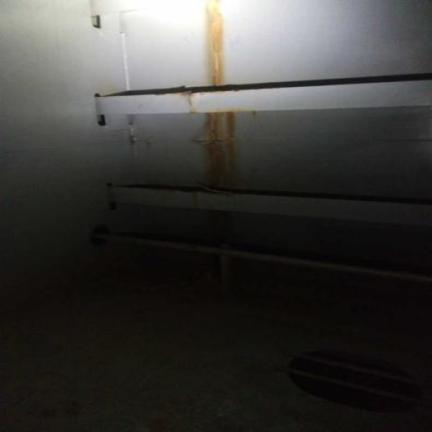besi_tidak_karat: (96, 75, 431, 115)
karat: (206, 0, 229, 90)
